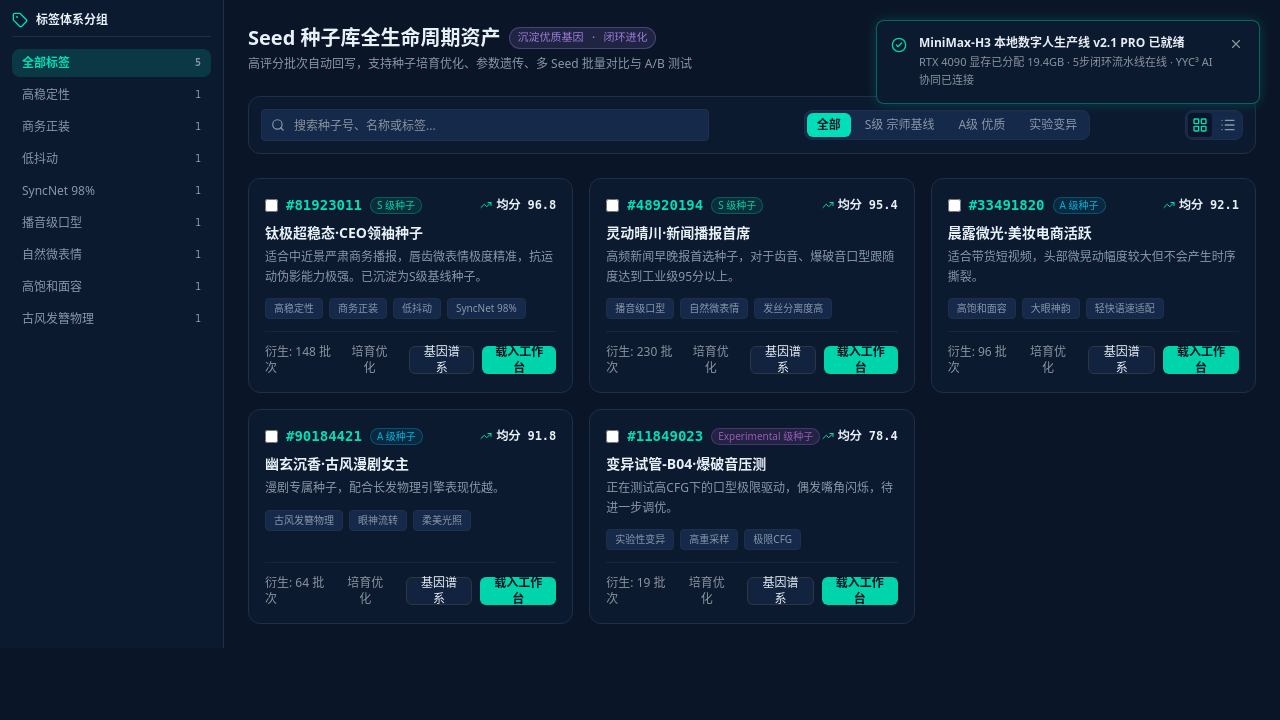
Test: 种子库集成 · 对比勾选与详情抽屉 › 基因谱系抽屉：打开显示谱系标题 → 一键应用触发回写回调 + Toast + 导航工作台
Click the button "基因谱系" in the row of "148" at (442, 360), box [409, 346, 474, 374]
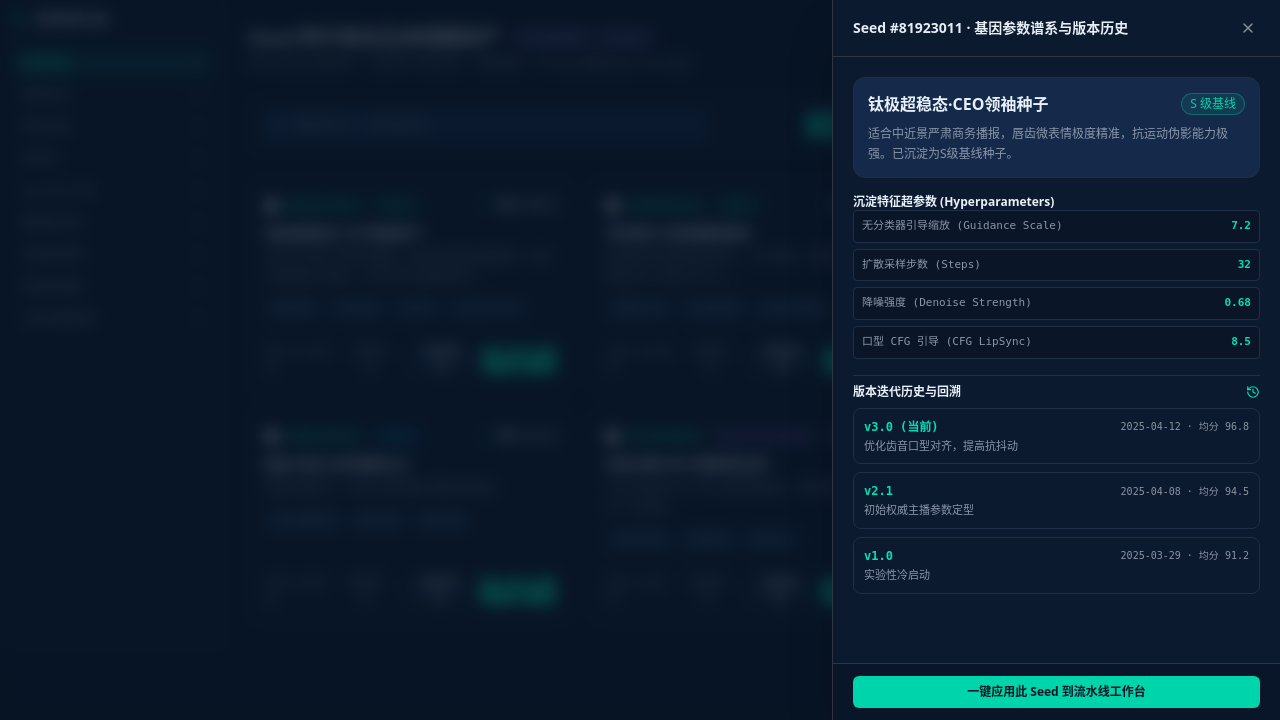
Check: the text "Seed #81923011 · 基因参数谱系与版本历史" is shown, box [853, 18, 1128, 38]
抽屉底部一键应用：回调 + 成功反馈 + 路由编排
Click the button "一键应用此 Seed 到流水线工作台" at (1056, 692), box [853, 676, 1260, 708]
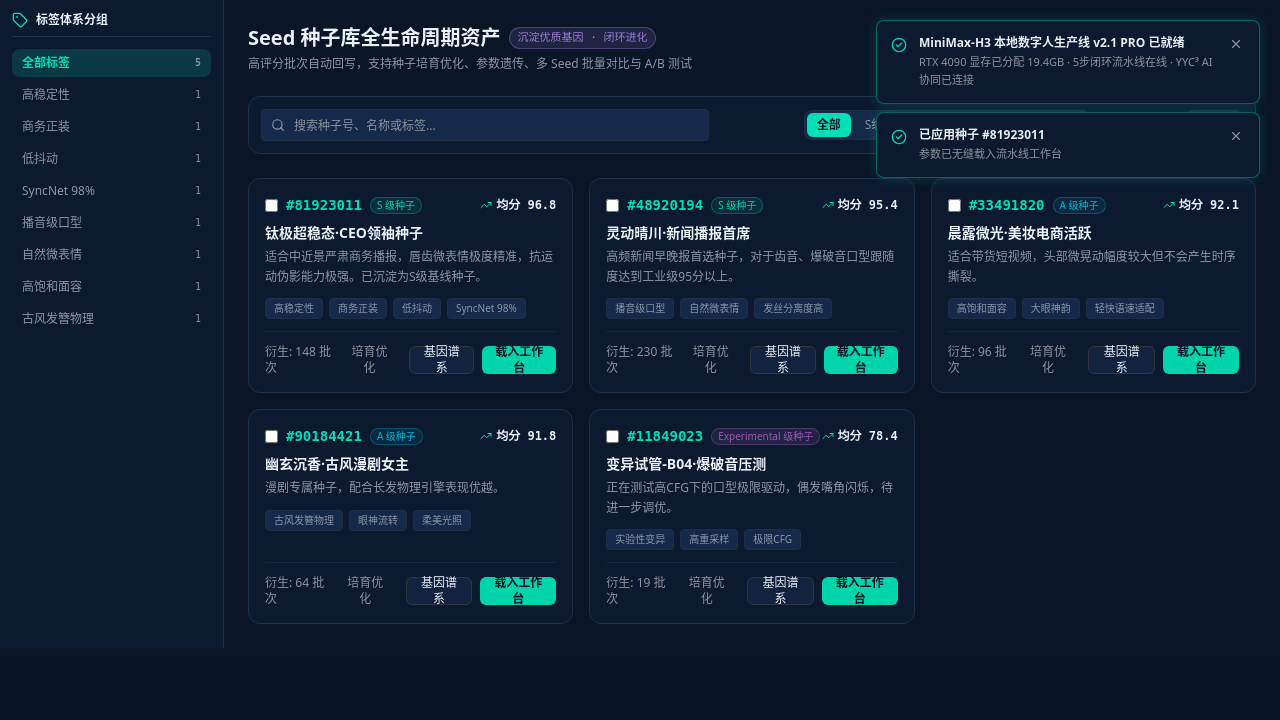
Check: the text "已应用种子 #81923011" is shown, box [919, 126, 1045, 143]
